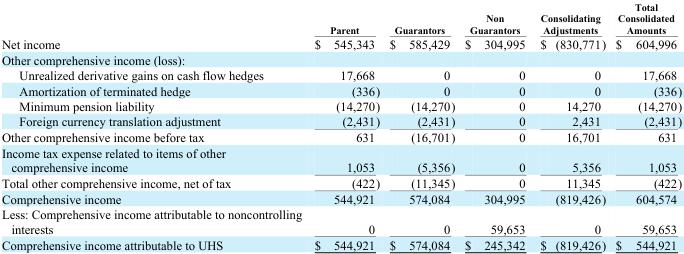table: (0, 0, 681, 251)
table column: (0, 0, 307, 251), (531, 0, 609, 251), (307, 0, 384, 251), (384, 0, 459, 251), (459, 0, 531, 251), (609, 0, 681, 251)
table column header: (0, 0, 681, 35)
table projected row header: (0, 51, 681, 67)
table row: (0, 0, 681, 35), (0, 144, 681, 174), (0, 206, 681, 236), (0, 35, 681, 51), (0, 51, 681, 67), (0, 82, 681, 98), (0, 113, 681, 129), (0, 174, 681, 190), (0, 190, 681, 206), (0, 67, 681, 82), (0, 98, 681, 113), (0, 129, 681, 144), (0, 236, 681, 251)
